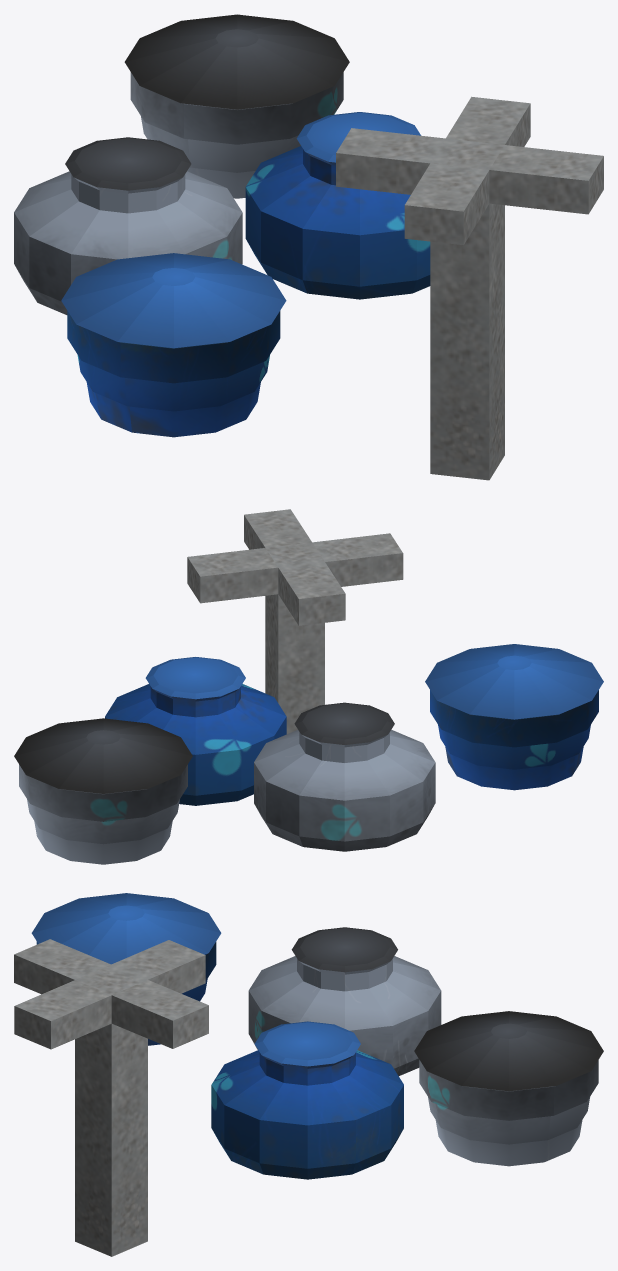
Rendered from caixad_agua_mod.fbx.
3 renders of one model, top to bottom at view 1: azimuth 30°, elevation 25°; view 2: azimuth 150°, elevation 25°; view 3: azimuth 270°, elevation 25°, orthographic. The views are drawn at different scales.
Parts seen in each view (by area): view 1: Cube, Cube.006, Cube.008, Cube.007, Cube.009; view 2: Cube.007, Cube.008, Cube.006, Cube, Cube.009; view 3: Cube, Cube.009, Cube.008, Cube.007, Cube.006.
Part boxes in pixels (x1,y1,x2,y2): Cube: (336,96,603,480); Cube.006: (61,253,286,437); Cube.008: (124,14,349,198); Cube.007: (14,137,242,314); Cube.009: (245,112,430,299); Cube.007: (254,702,435,851); Cube.008: (14,718,192,864); Cube.006: (425,644,603,790); Cube: (187,509,403,733); Cube.009: (105,657,286,805); Cube: (14,939,208,1256); Cube.009: (211,1021,403,1179); Cube.008: (414,1011,603,1166); Cube.007: (248,927,441,1075); Cube.006: (31,893,221,1045).
Size of the model in its own units: 306 by 186 by 379.
